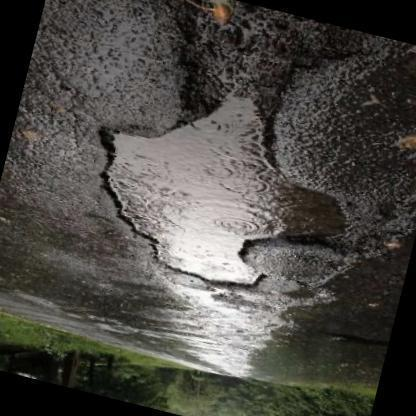pothole: (87, 100, 357, 290), (152, 0, 367, 147)
